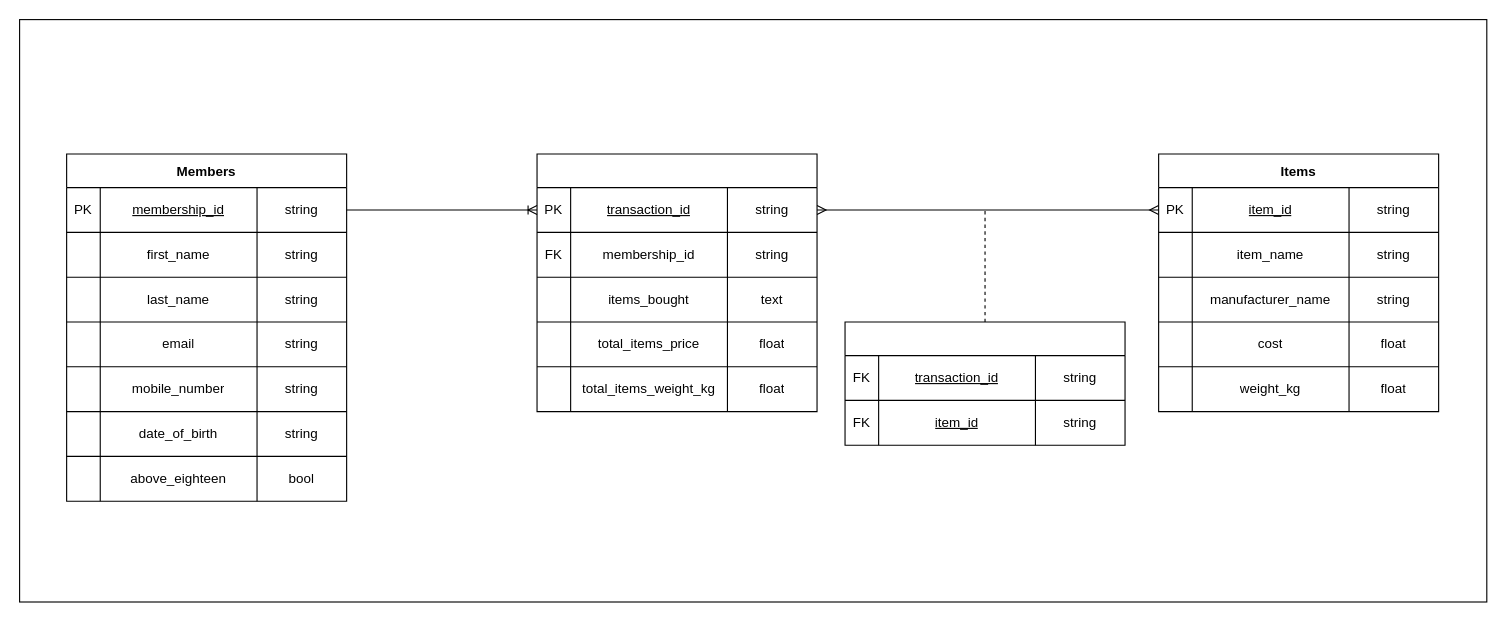
Image size: 1506x622. Some labels were removed from this diagram. Here are the shapes that lost their labels. From the top down, the box of each, then its label:
(536, 153, 817, 412): Transactions
(844, 321, 1125, 445): TransactionItems
